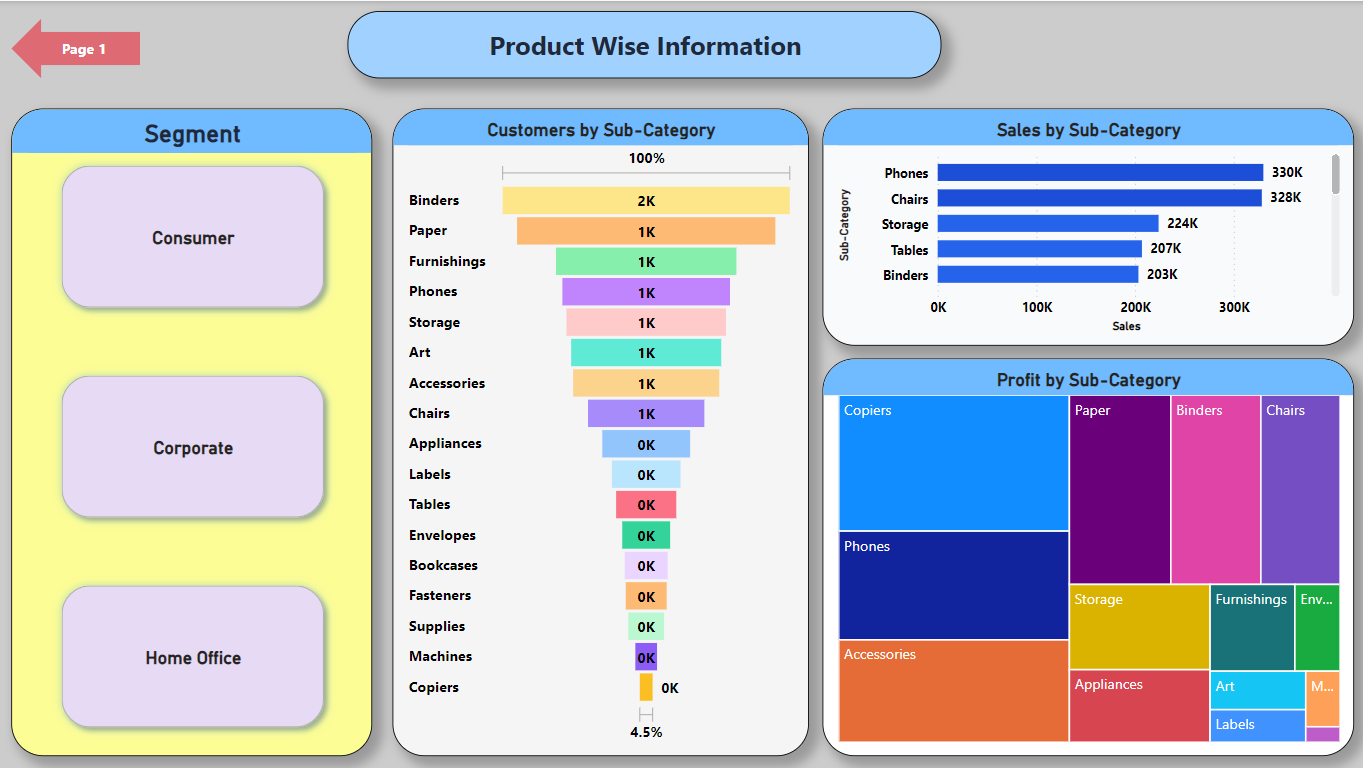

This screenshot's page, from the dashboard's own definition file:
{"tool":"powerbi","page":{"name":"Page 2","canvas":[1280,720],"ordinal":1},"visuals":[{"type":"advancedSlicerVisual","fields":{"Values":["in.Segment"]},"box":[10.5,100.8,338.7,607],"z":0},{"type":"funnel","title":"Customers by Sub-Category","fields":{"Category":["in.Sub-Category"],"Y":["CountNonNull(in.Customer ID)"]},"box":[368,100.8,390.2,607],"z":1000},{"type":"barChart","title":"Sales by Sub-Category","fields":{"Category":["in.Sub-Category"],"Y":["Sum(in.Sales)"]},"box":[771.1,100.8,498.1,222.7],"z":2000},{"type":"treemap","title":"Profit by Sub-Category","fields":{"Group":["in.Sub-Category"],"Values":["Sum(in.Profit)"]},"box":[771.1,335.2,498.1,372.7],"z":3000},{"type":"textbox","box":[325.3,9.5,556.9,62.9],"z":4000},{"type":"shape","box":[10.5,16.4,120.7,56.3],"z":5000}]}

Visuals, with their boxes in screenshot pixels (x1, y1, x2, y2), scaled from the page's 1280x720 canvas onto the 1363x768 screenshot:
advancedSlicerVisual - in.Segment: [11,108,372,755]
"Customers by Sub-Category" funnel: [392,108,807,755]
"Sales by Sub-Category" barChart: [821,108,1351,345]
"Profit by Sub-Category" treemap: [821,358,1351,755]
textbox: [346,10,939,77]
shape: [11,17,140,78]
